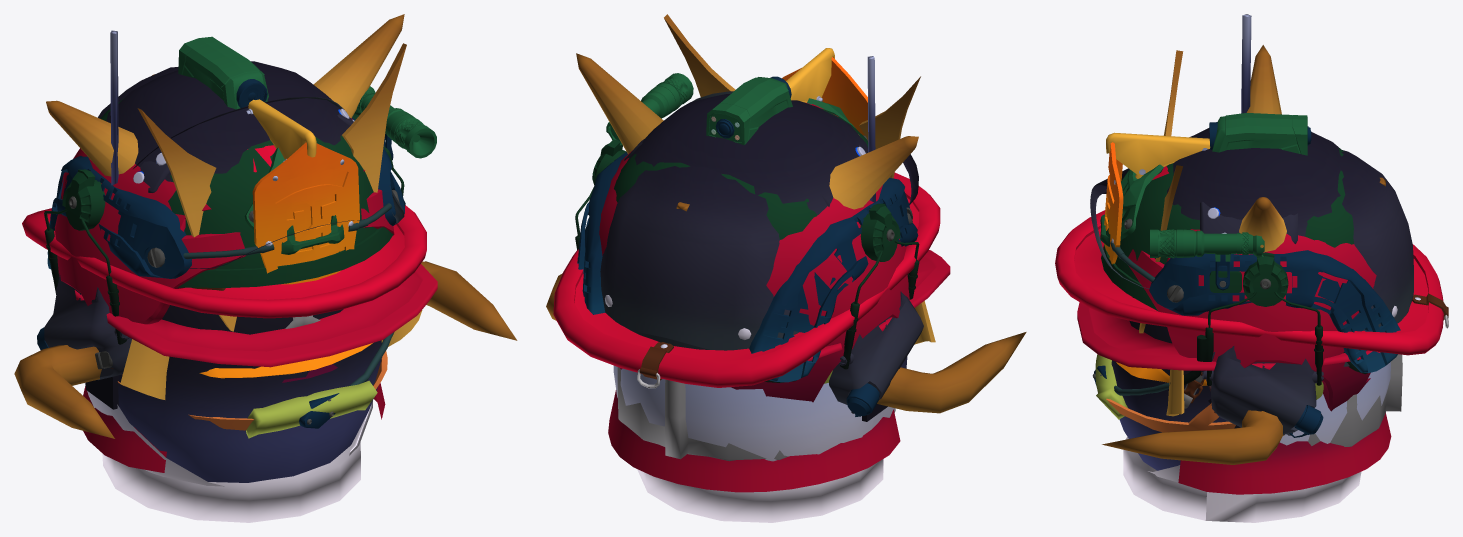
File: ObbyGame_Characters_helmets_.fbx
3 views of the same model, side by side, from view 1: azimuth 30°, elevation 25°; view 2: azimuth 150°, elevation 25°; view 3: azimuth 270°, elevation 25° (orthographic). The views are drawn at different scales.
Visible parts, largest first — view 1: ObbyGame_Characters_helmet_006, ObbyGame_Characters_helmet_007, ObbyGame_Characters_helmet_005, ObbyGame_Characters_helmet_000, ObbyGame_Characters_helmet_008, ObbyGame_Characters_helmet_009, ObbyGame_Characters_helmet_010, ObbyGame_Characters_helmet_004, ObbyGame_Characters_helmet_001, ObbyGame_Characters_helmet_003; view 2: ObbyGame_Characters_helmet_006, ObbyGame_Characters_helmet_003, ObbyGame_Characters_helmet_007, ObbyGame_Characters_helmet_005, ObbyGame_Characters_helmet_000, ObbyGame_Characters_helmet_009, ObbyGame_Characters_helmet_004, ObbyGame_Characters_helmet_008, ObbyGame_Characters_helmet_010; view 3: ObbyGame_Characters_helmet_006, ObbyGame_Characters_helmet_005, ObbyGame_Characters_helmet_007, ObbyGame_Characters_helmet_008, ObbyGame_Characters_helmet_000, ObbyGame_Characters_helmet_009, ObbyGame_Characters_helmet_004, ObbyGame_Characters_helmet_003, ObbyGame_Characters_helmet_010, ObbyGame_Characters_helmet_001.
Part boxes in pixels (bbox=[...]): ObbyGame_Characters_helmet_006: bbox=[37, 36, 436, 428]; ObbyGame_Characters_helmet_007: bbox=[84, 30, 382, 522]; ObbyGame_Characters_helmet_005: bbox=[22, 99, 426, 318]; ObbyGame_Characters_helmet_000: bbox=[14, 14, 517, 438]; ObbyGame_Characters_helmet_008: bbox=[54, 118, 394, 438]; ObbyGame_Characters_helmet_009: bbox=[106, 61, 349, 181]; ObbyGame_Characters_helmet_010: bbox=[74, 74, 437, 367]; ObbyGame_Characters_helmet_004: bbox=[83, 43, 422, 472]; ObbyGame_Characters_helmet_001: bbox=[199, 343, 372, 378]; ObbyGame_Characters_helmet_003: bbox=[98, 67, 404, 268]; ObbyGame_Characters_helmet_006: bbox=[575, 73, 923, 416]; ObbyGame_Characters_helmet_003: bbox=[600, 91, 918, 350]; ObbyGame_Characters_helmet_007: bbox=[613, 56, 907, 522]; ObbyGame_Characters_helmet_005: bbox=[553, 48, 940, 388]; ObbyGame_Characters_helmet_000: bbox=[546, 53, 1026, 461]; ObbyGame_Characters_helmet_009: bbox=[627, 94, 868, 214]; ObbyGame_Characters_helmet_004: bbox=[608, 14, 935, 492]; ObbyGame_Characters_helmet_008: bbox=[599, 150, 909, 402]; ObbyGame_Characters_helmet_010: bbox=[676, 202, 950, 360]; ObbyGame_Characters_helmet_006: bbox=[1092, 113, 1400, 437]; ObbyGame_Characters_helmet_005: bbox=[1055, 132, 1448, 408]; ObbyGame_Characters_helmet_007: bbox=[1111, 14, 1390, 522]; ObbyGame_Characters_helmet_008: bbox=[1095, 229, 1376, 432]; ObbyGame_Characters_helmet_000: bbox=[1102, 45, 1402, 464]; ObbyGame_Characters_helmet_009: bbox=[1167, 129, 1341, 236]; ObbyGame_Characters_helmet_004: bbox=[1139, 50, 1391, 494]; ObbyGame_Characters_helmet_003: bbox=[1090, 128, 1413, 366]; ObbyGame_Characters_helmet_010: bbox=[1077, 177, 1385, 391]; ObbyGame_Characters_helmet_001: bbox=[1116, 362, 1207, 385].
Bounding box in the file's own units: 309 × 309 × 270.
1 material, 1 textured.
